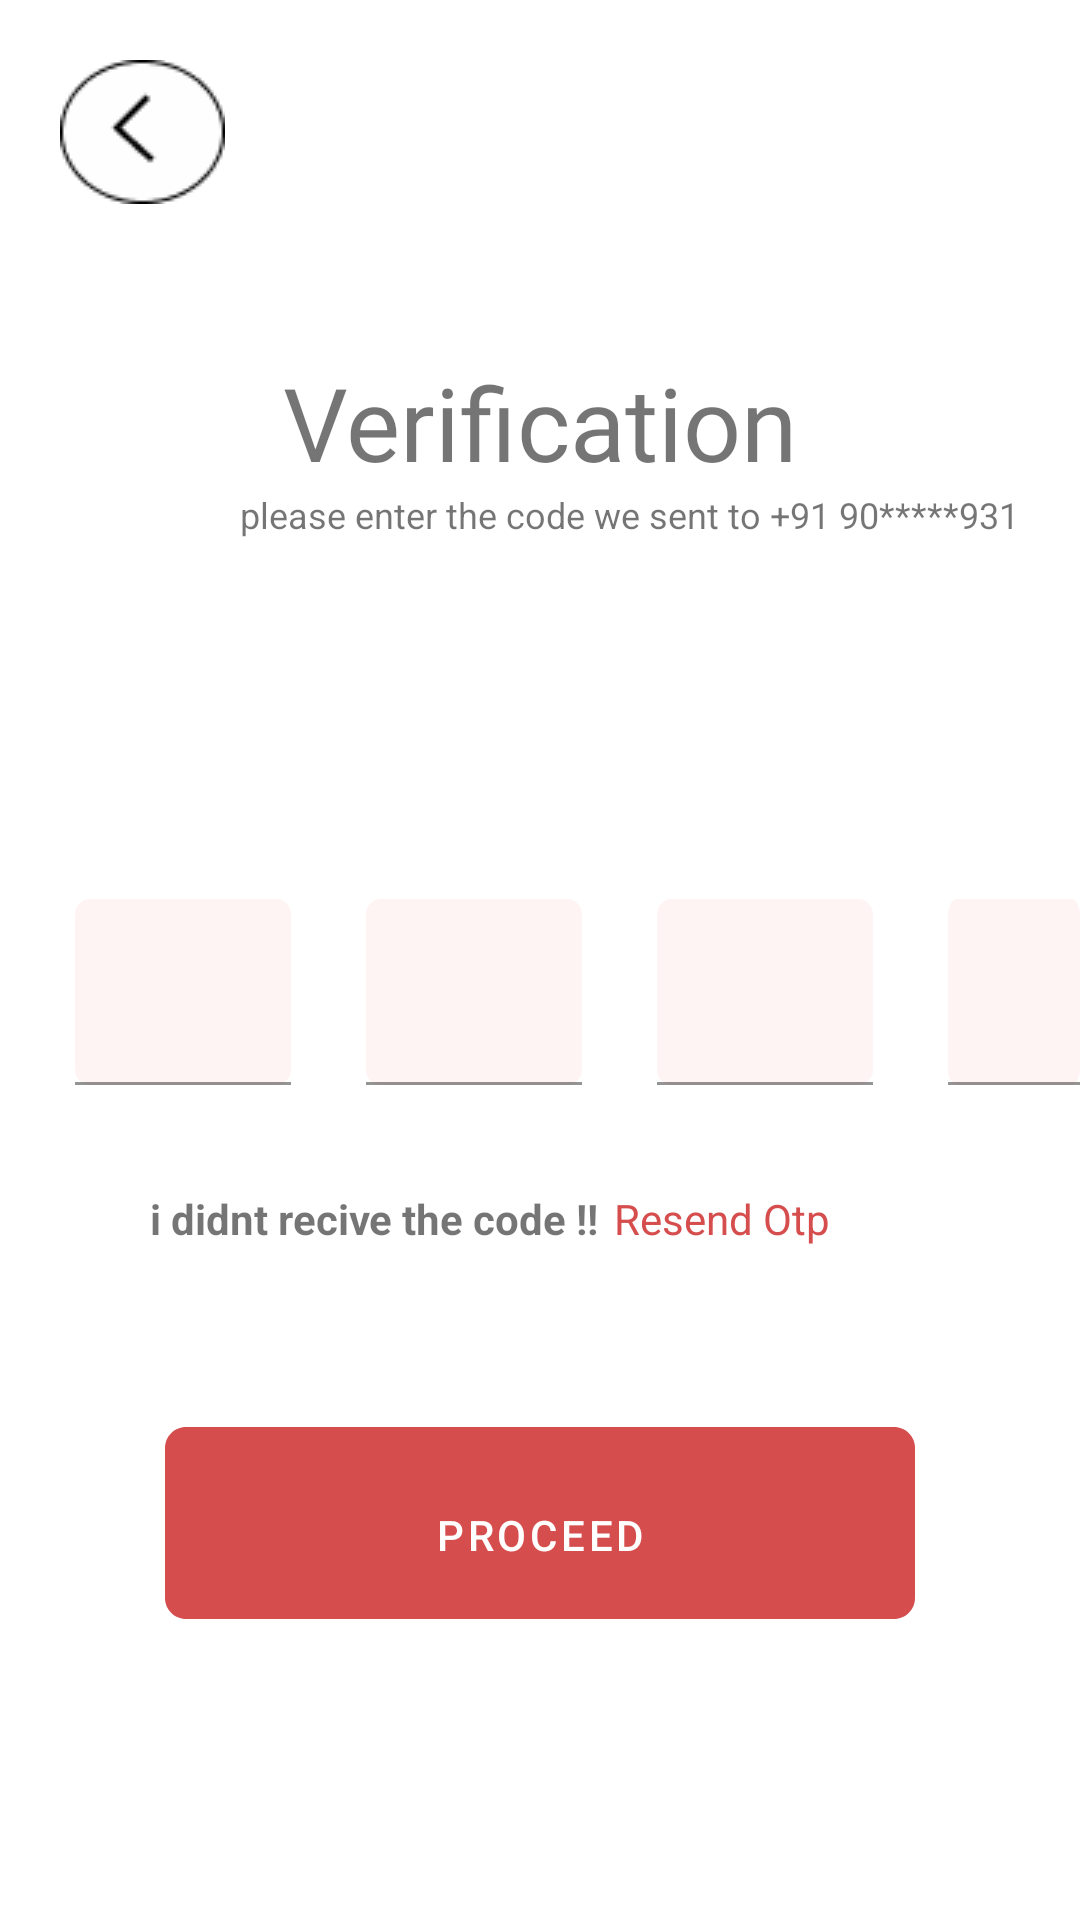

Screen size 1080px×1920px. Icon name, then its center in pixels as point (x, y):
iconback: point (142, 132)
